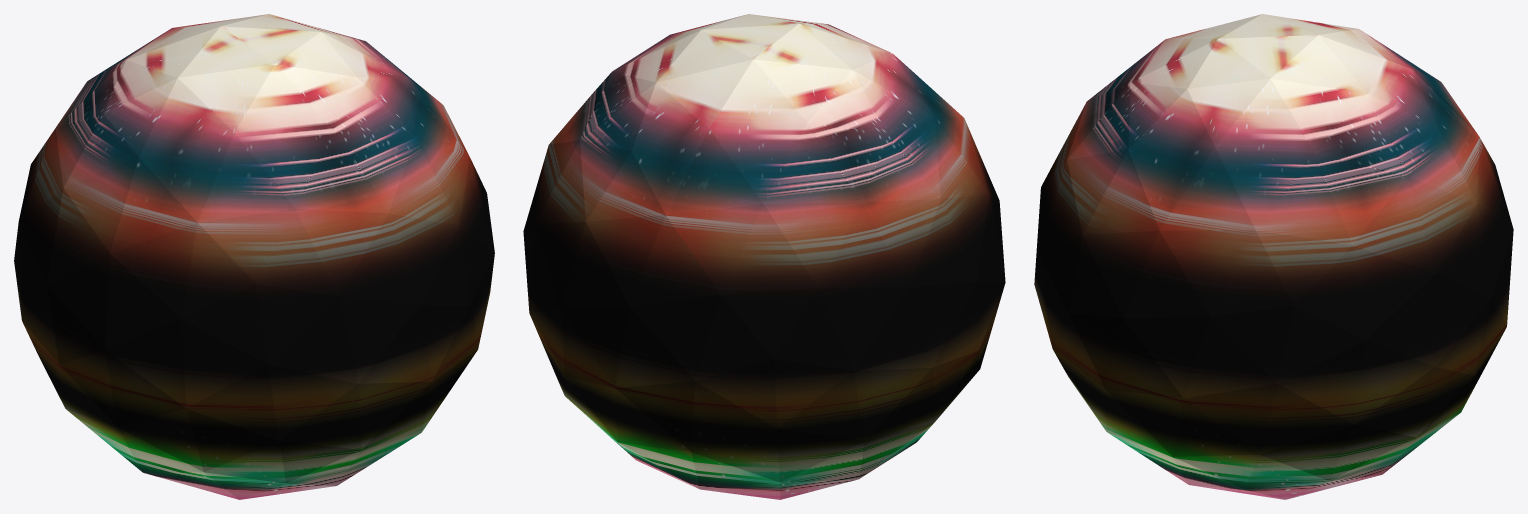
File: starwall.obj
3 views of the same model, side by side, from view 1: azimuth 30°, elevation 25°; view 2: azimuth 150°, elevation 25°; view 3: azimuth 270°, elevation 25° (orthographic).
Bounding box in the file's own units: 240 × 237 × 238.
Materials: 1 (1 with a texture image).
